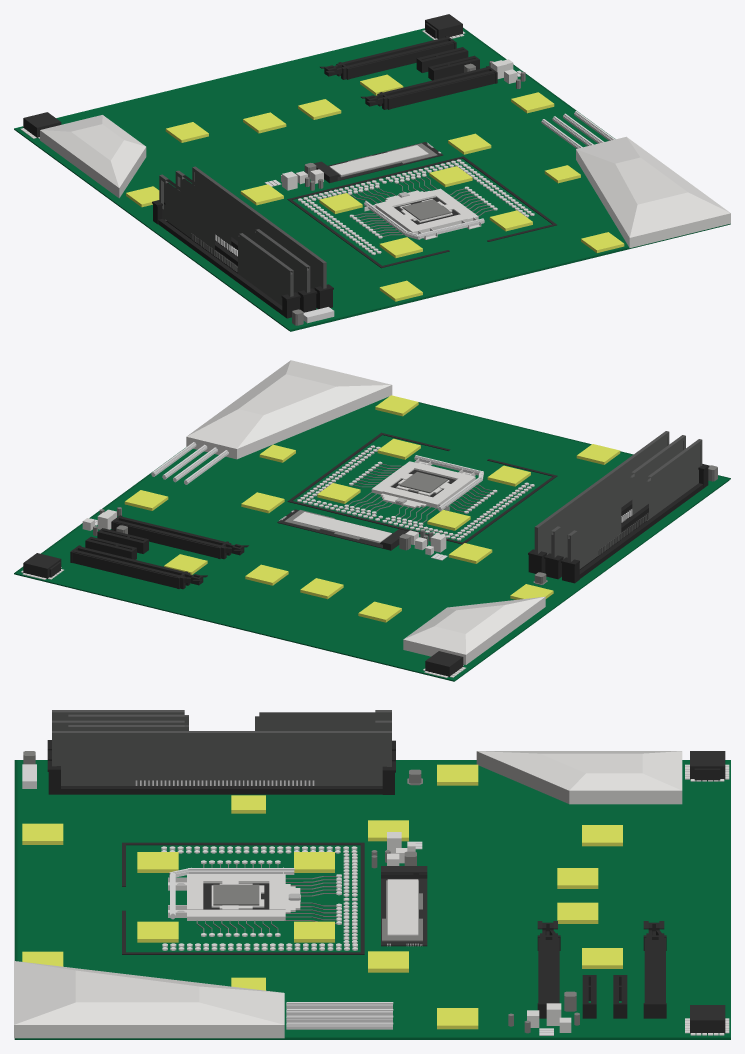
File: MotherBoardV2.fbx
3 renders of one model, top to bottom at view 1: azimuth 30°, elevation 25°; view 2: azimuth 150°, elevation 25°; view 3: azimuth 270°, elevation 25°, orthographic. The views are drawn at different scales.
Visible parts, largest first — view 1: Plane, cuboid_1, cuboid, RamStick, RamStick_98, RamStick_50, cube_1086, cube_1204, cube_1126, cube_1072, RamStick_99, Spawner1 (+20 smaller); view 2: Plane, cuboid_1, cuboid, RamStick, RamStick_98, RamStick_50, cube_1071, cube_1204, cube_1126, cube_1083, RamStick_99, Spawner1 (+19 smaller); view 3: Plane, cuboid_1, RamStick_98, cuboid, RamStick, cube_1170, RamStick_99, cube_1126, RamStick_51, RamStick_50, cube_7, CPU (+23 smaller).
Boxes of the visible parts, left/top/right/bottom form: Plane: left=14, top=27, right=730, bottom=331; cuboid_1: left=576, top=136, right=730, bottom=247; cuboid: left=40, top=115, right=146, bottom=198; RamStick: left=159, top=174, right=293, bottom=305; RamStick_98: left=194, top=173, right=321, bottom=289; RamStick_50: left=178, top=177, right=307, bottom=293; cube_1086: left=390, top=73, right=494, bottom=108; cube_1204: left=158, top=219, right=282, bottom=314; cube_1126: left=329, top=145, right=428, bottom=175; cube_1072: left=349, top=43, right=453, bottom=78; RamStick_99: left=192, top=166, right=326, bottom=266; Spawner1: left=425, top=14, right=462, bottom=38; Plane: left=14, top=396, right=730, bottom=681; cuboid_1: left=186, top=360, right=392, bottom=459; cuboid: left=403, top=596, right=545, bottom=664; RamStick: left=567, top=439, right=702, bottom=568; RamStick_98: left=540, top=437, right=666, bottom=554; RamStick_50: left=556, top=441, right=683, bottom=559; cube_1071: left=72, top=552, right=176, bottom=588; cube_1204: left=579, top=483, right=703, bottom=578; cube_1126: left=292, top=512, right=391, bottom=542; cube_1083: left=113, top=522, right=217, bottom=558; RamStick_99: left=534, top=431, right=669, bottom=530; Spawner1: left=23, top=553, right=61, bottom=578; Plane: left=14, top=760, right=730, bottom=1039; cuboid_1: left=14, top=961, right=284, bottom=1038; RamStick_98: left=56, top=737, right=386, bottom=785; cuboid: left=476, top=751, right=682, bottom=804; RamStick: left=52, top=710, right=391, bottom=726; cube_1170: left=61, top=786, right=382, bottom=794; RamStick_99: left=52, top=731, right=391, bottom=737; cube_1126: left=387, top=879, right=418, bottom=935; RamStick_51: left=52, top=720, right=391, bottom=726; RamStick_50: left=56, top=725, right=386, bottom=730; cube_7: left=187, top=909, right=285, bottom=920; CPU: left=213, top=884, right=259, bottom=905.
Bounding box in the file's own units: 500 × 51.88 × 544.
Materials: 28 (28 with a texture image).
